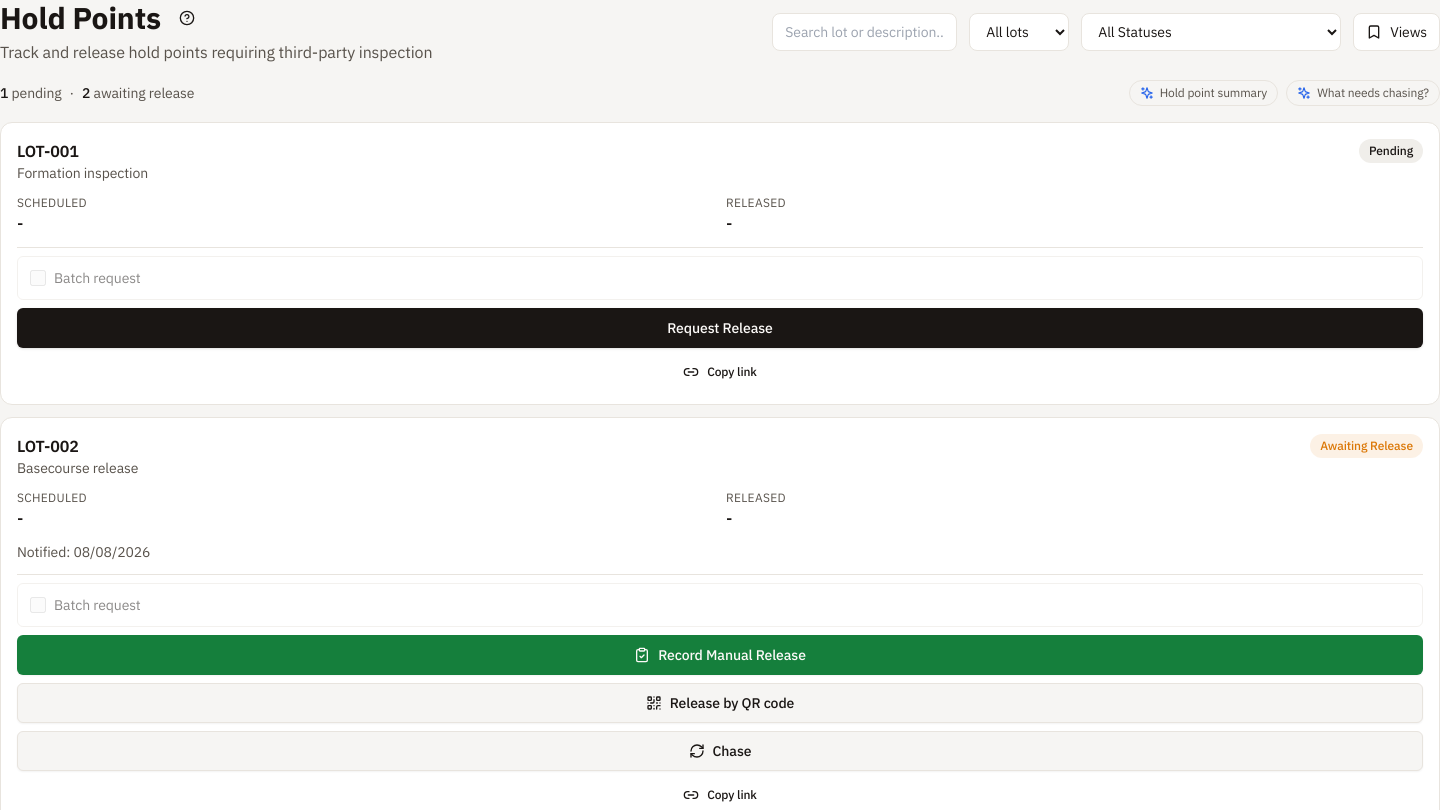
Test: HoldPointsPage register data layer › filters by lot search and records the query in the URL
Expected: the heading "LOT-001" is shown, x1=17 y1=141 x2=79 y2=161
In the field named "Search hold points by lot or description": (865, 32) x1=772 y1=13 x2=957 y2=51, type "LOT-002"
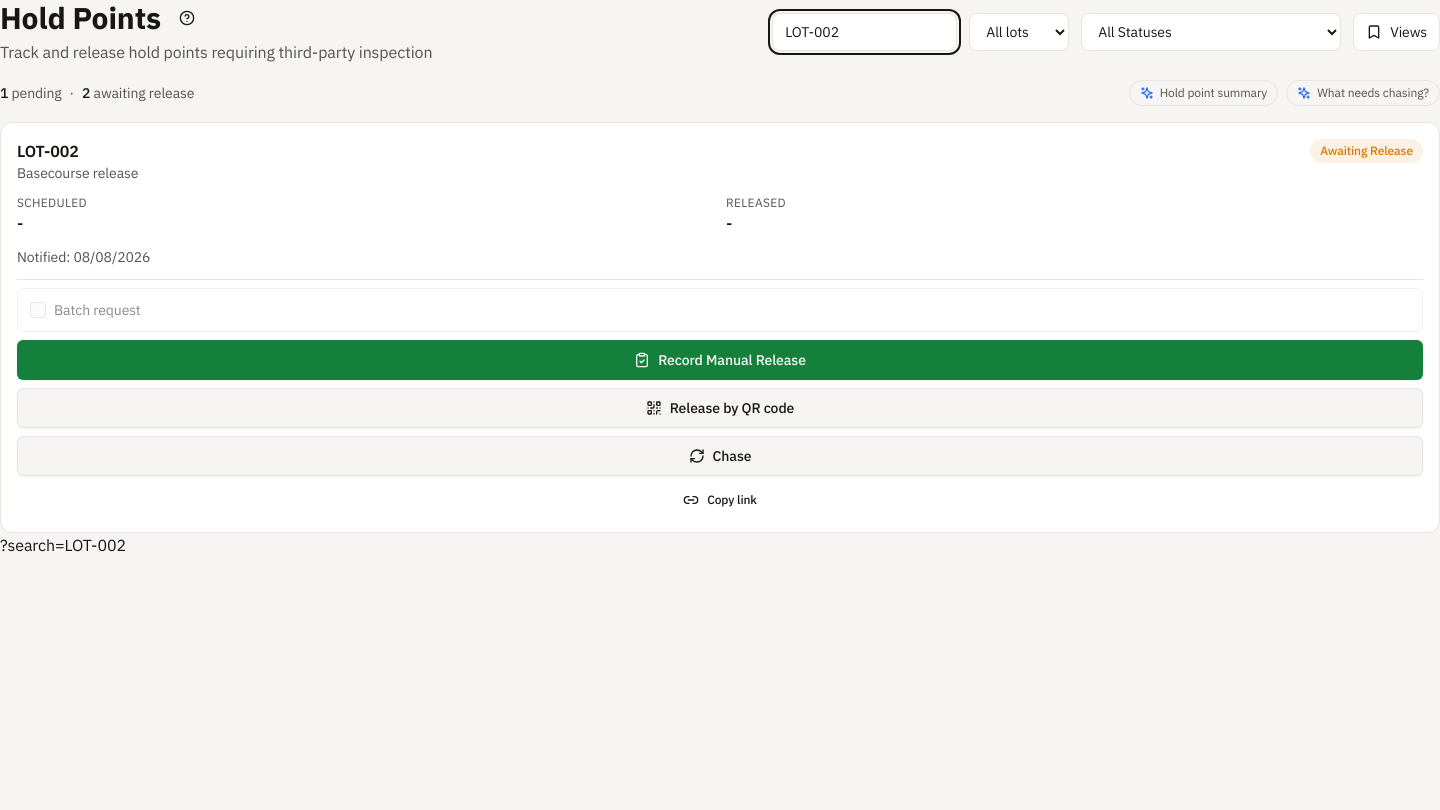
Expected: the heading "LOT-002" is shown, x1=17 y1=141 x2=79 y2=161
Now the text with test id "location-search" shows "search=LOT-002", box x1=0 y1=535 x2=126 y2=555
Now the heading "LOT-001" is gone
